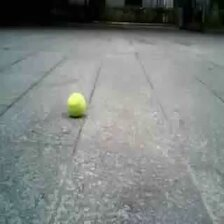tennis: (67, 92, 85, 114)
